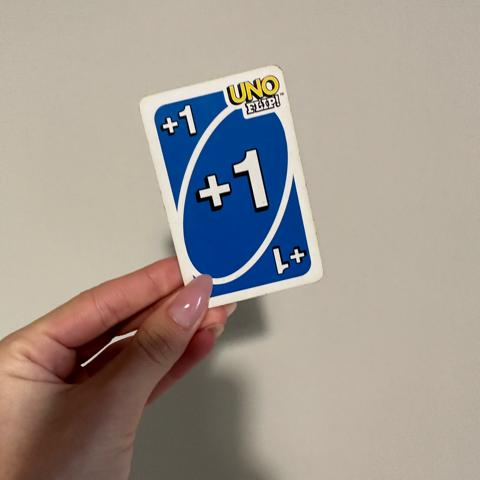lblue-10: (156, 98, 202, 151)
